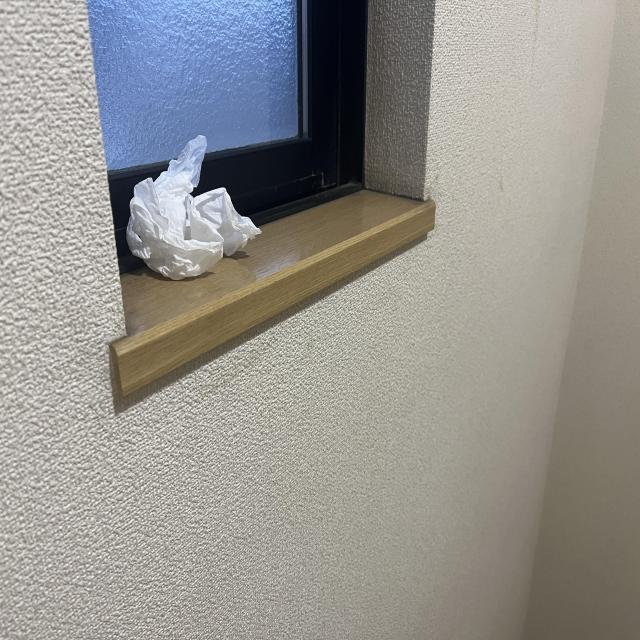衛生紙: (125, 133, 263, 281)
